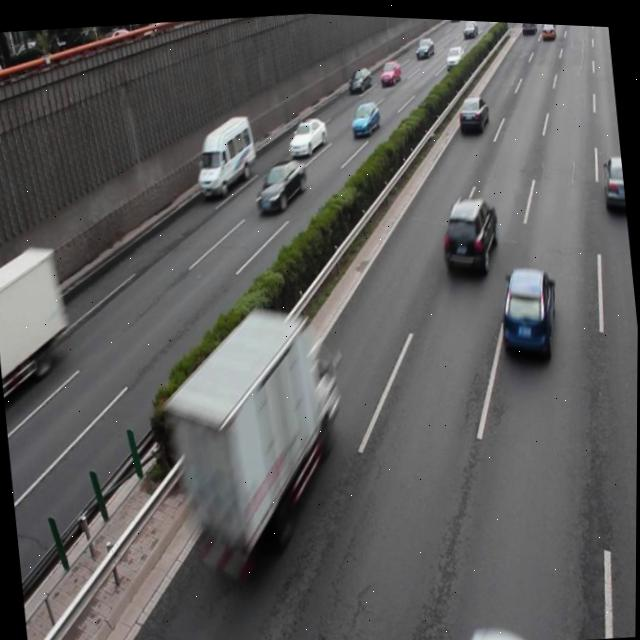bus: (158, 297, 348, 563), (0, 243, 75, 393)
car: (494, 256, 561, 363), (436, 187, 500, 277), (250, 151, 310, 213), (285, 111, 328, 157), (598, 147, 627, 205), (455, 86, 490, 132), (347, 95, 380, 137)
truck: (190, 109, 258, 198)
